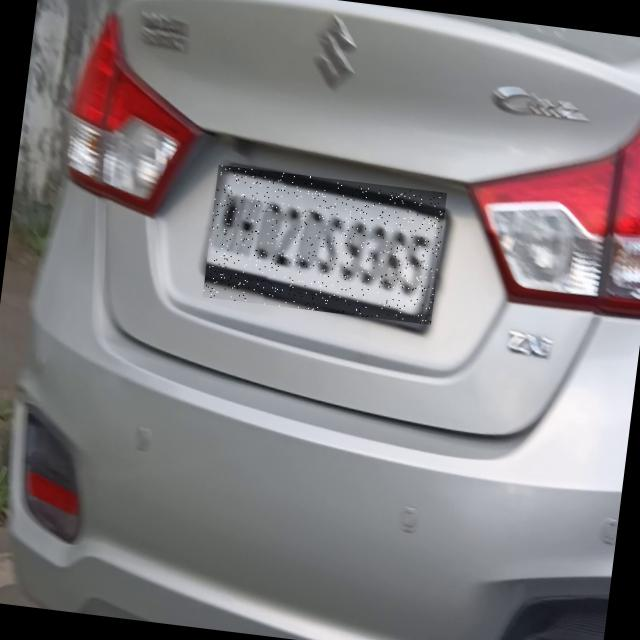Plate: (203, 166, 448, 326)
